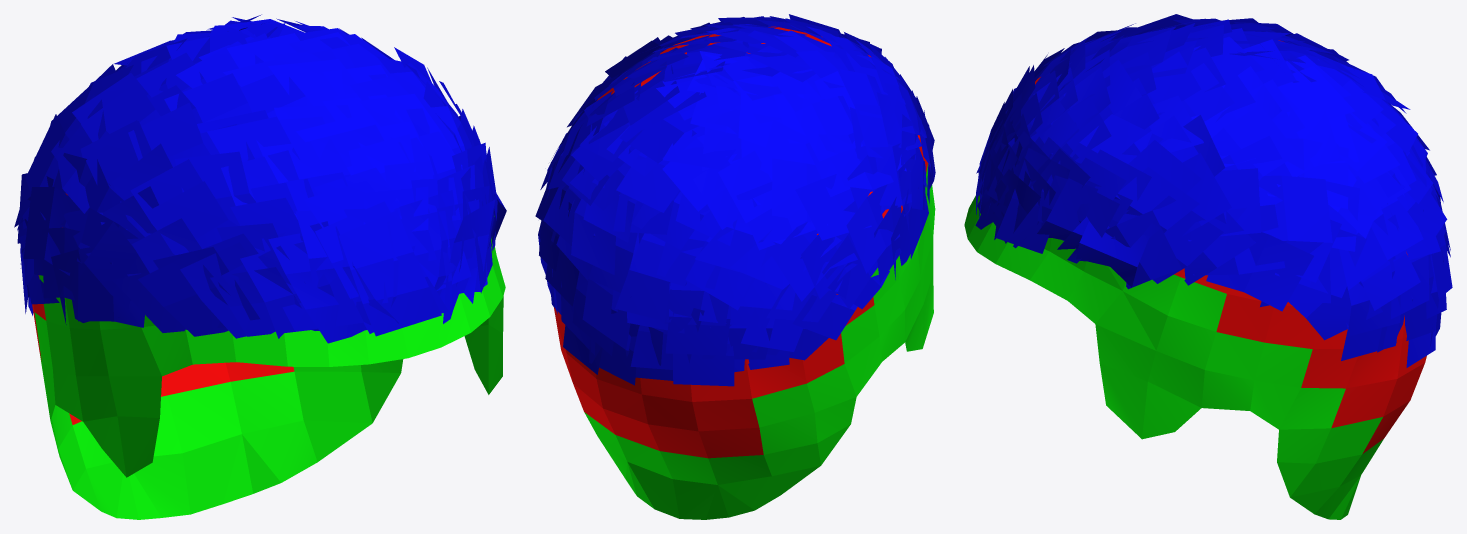
The model's file is hair_003.obj.
3 renders of one model, left to right at view 1: azimuth 30°, elevation 25°; view 2: azimuth 150°, elevation 25°; view 3: azimuth 270°, elevation 25°, orthographic. The views are drawn at different scales.
Size of the model in its own units: 17.25 by 21.71 by 20.67.
